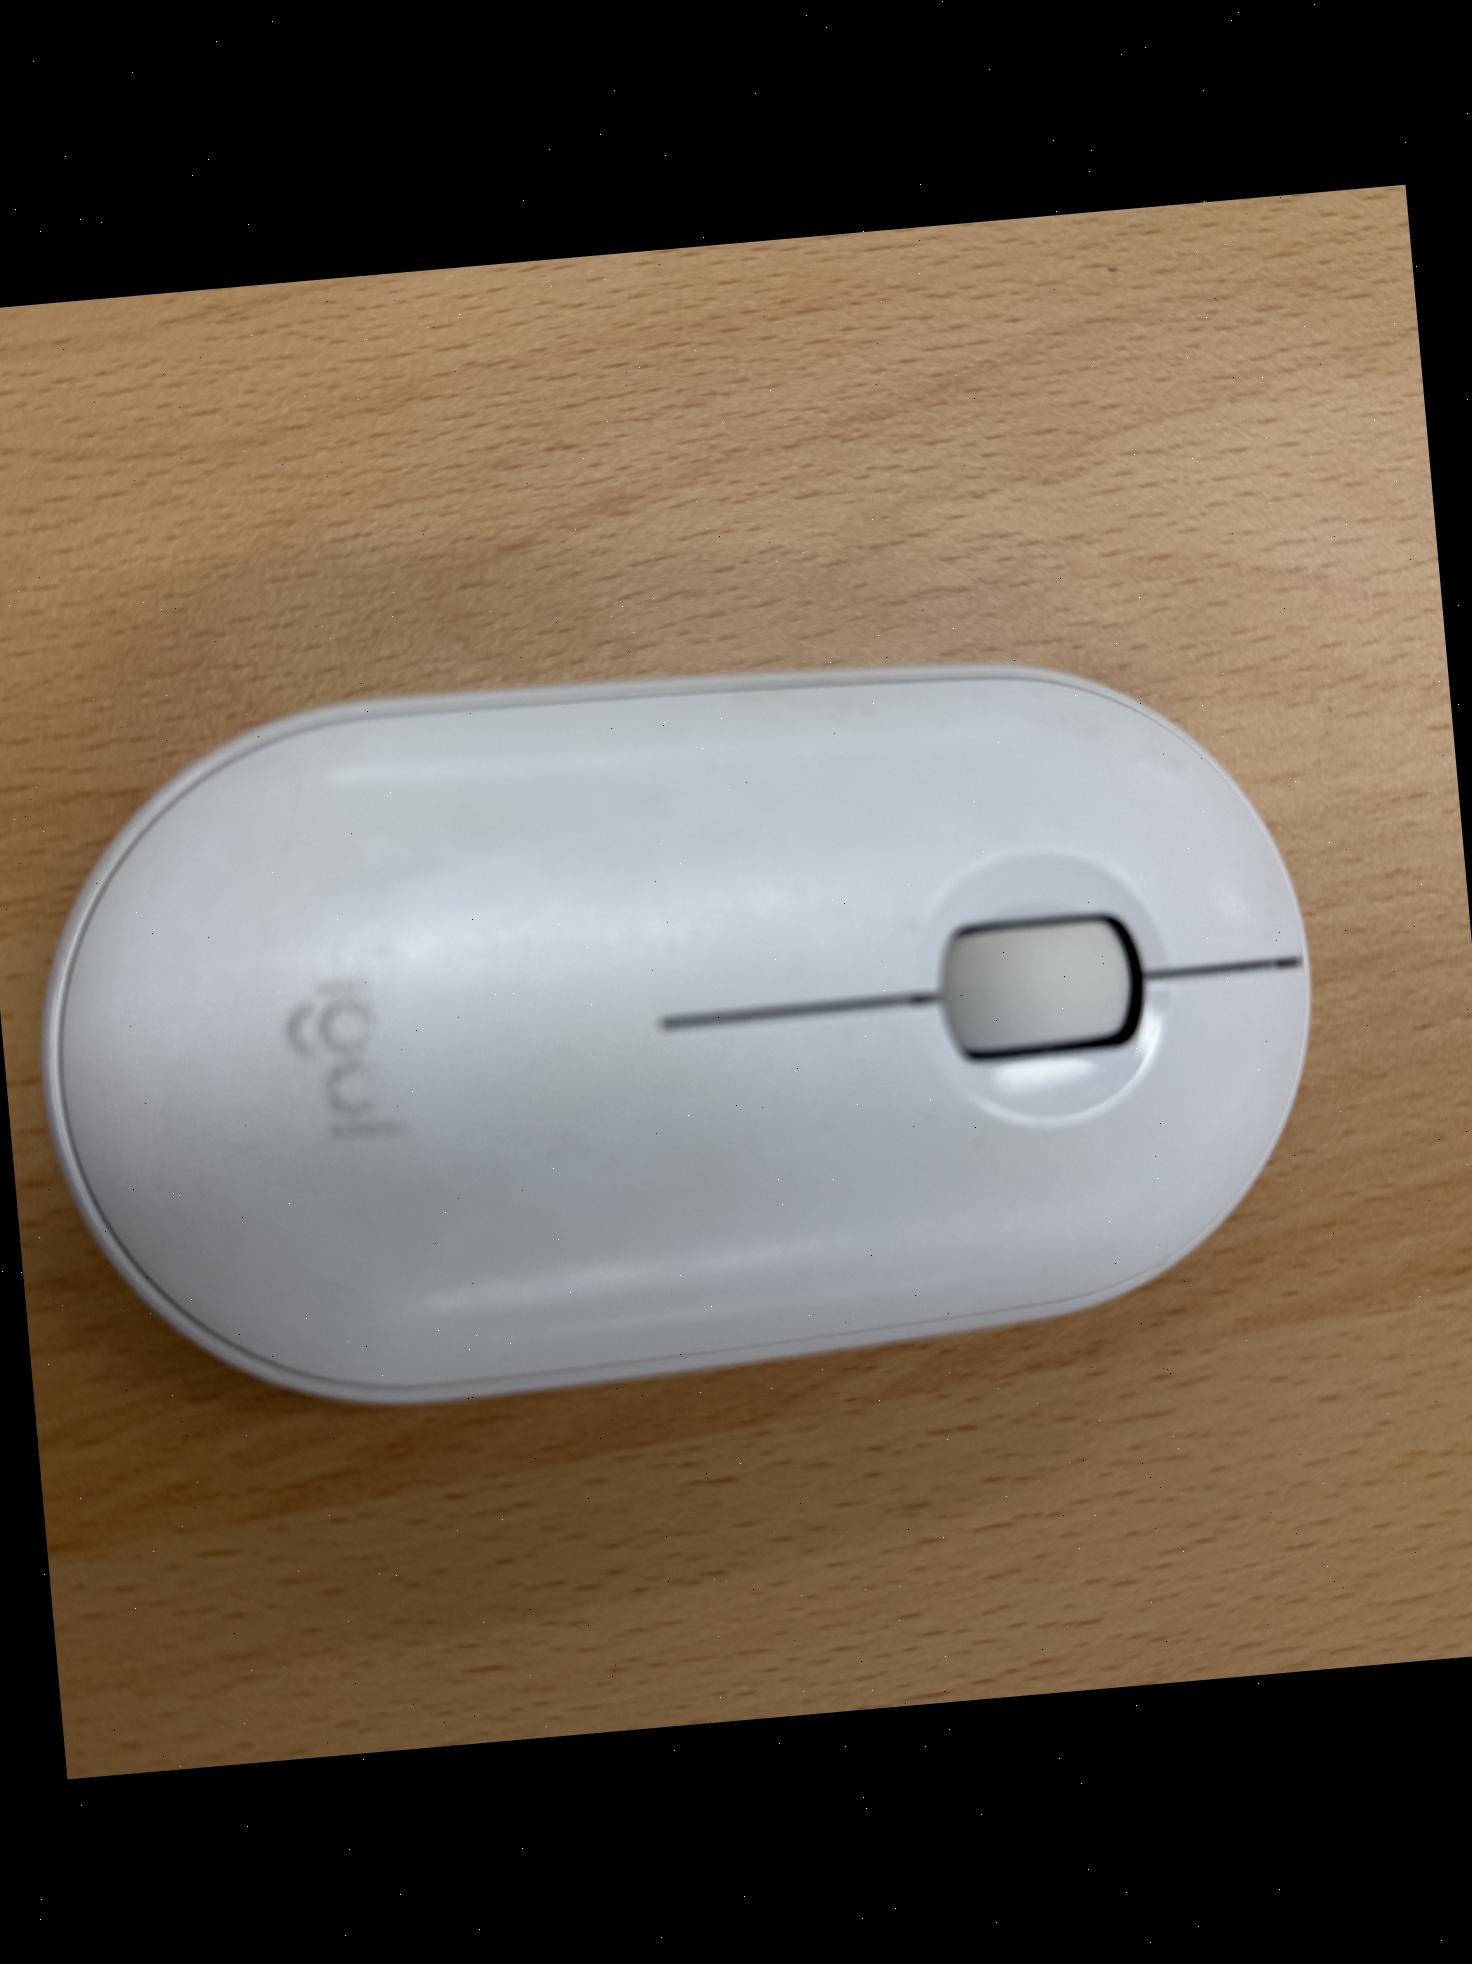front: (12, 595, 1353, 1444)
